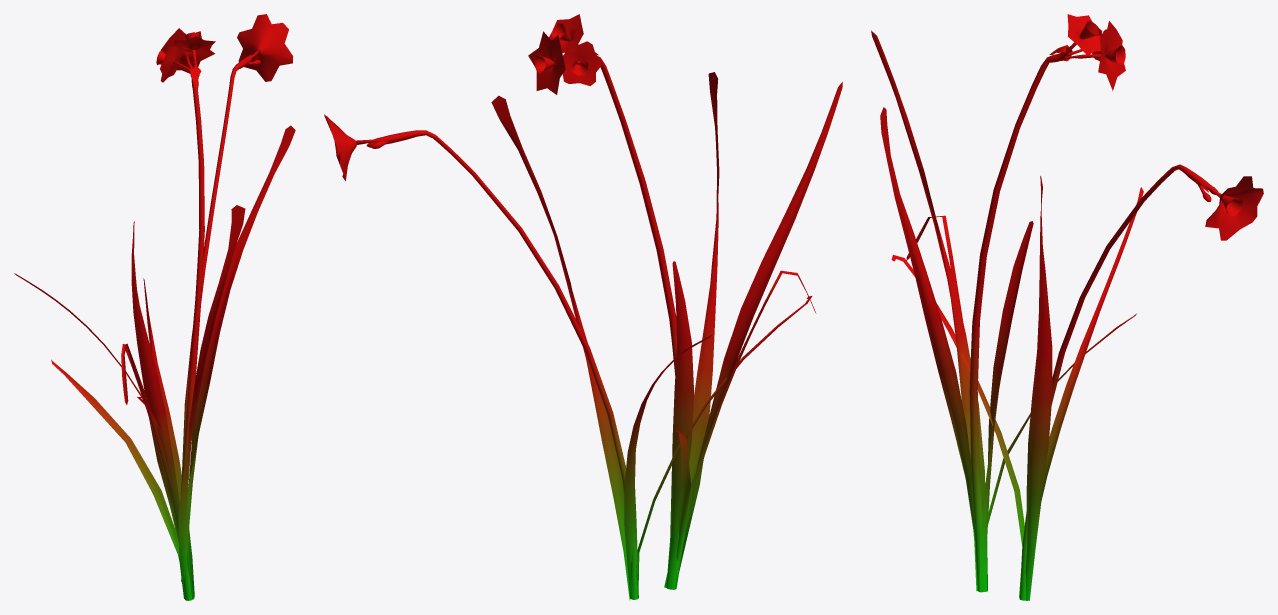
File: Rush Daffodil_LOD1_Var5_wftgfjaia.fbx
3 renders of one model, left to right at view 1: azimuth 30°, elevation 25°; view 2: azimuth 150°, elevation 25°; view 3: azimuth 270°, elevation 25°, orthographic. The views are drawn at different scales.
Visible parts, largest first — view 1: _gti3_var5_LOD1; view 2: _gti3_var5_LOD1; view 3: _gti3_var5_LOD1.
Part boxes in pixels (box(x1,y1,x2,y2)): _gti3_var5_LOD1: box(14, 14, 295, 600); _gti3_var5_LOD1: box(324, 14, 842, 600); _gti3_var5_LOD1: box(871, 14, 1263, 600).
Size of the model in its own units: 21.8 by 35.35 by 20.9.
